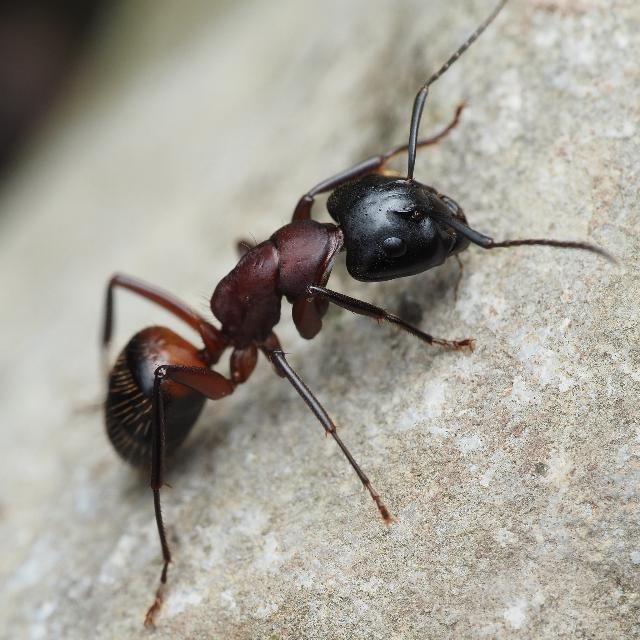Camponotus: (48, 80, 510, 516)
